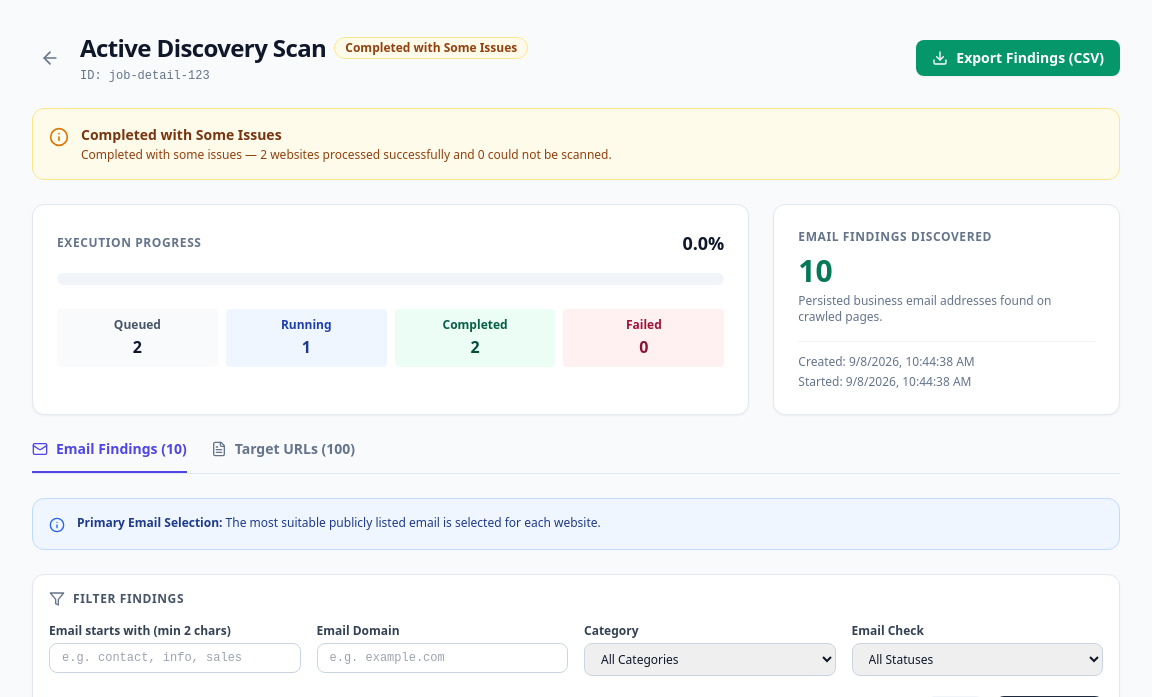
it: JobDetailPage › displays complete total_input_count on Target URLs tab header and "Showing 50 of 100" in summary
This screenshot has width=1152, height=697.
Expected: the text "Target URLs (100)" is shown, [235, 439, 355, 459]
Note: Switch to URLS tab
Click the button "Target URLs (100)".
click(283, 456)  # box [211, 439, 355, 473]
(page scrolled)
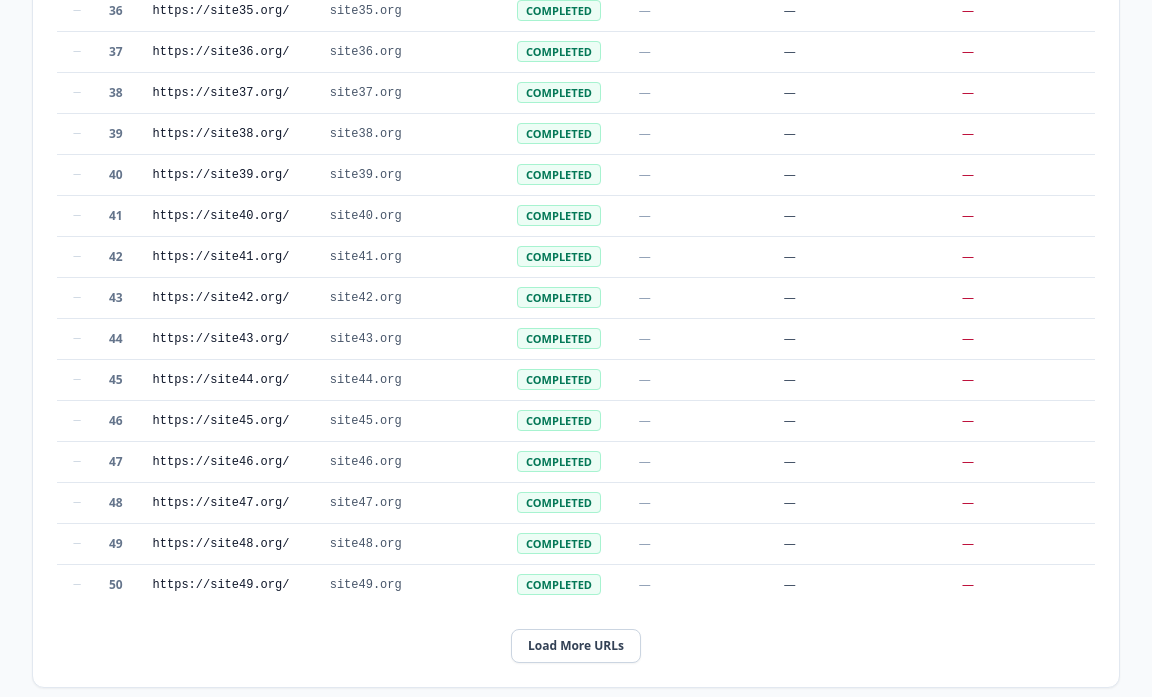
Expected: the button "Load More URLs" is shown, [511, 629, 641, 663]
